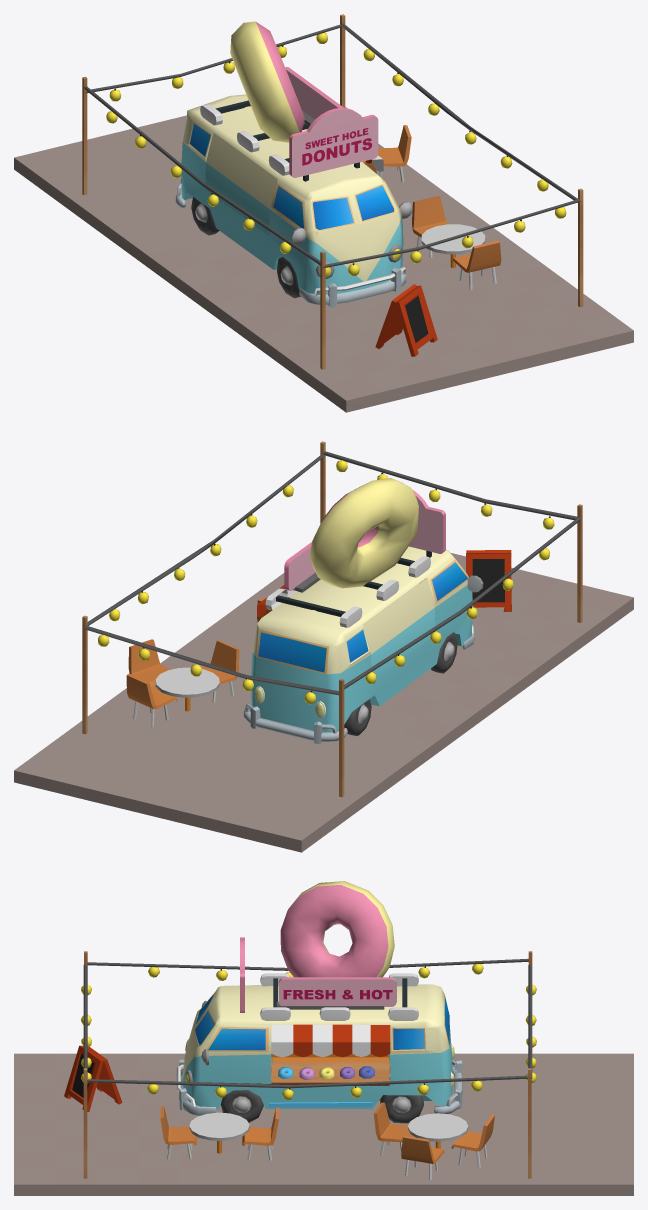
Rendered from FoodTruck.fbx.
3 renders of one model, top to bottom at view 1: azimuth 30°, elevation 25°; view 2: azimuth 150°, elevation 25°; view 3: azimuth 270°, elevation 25°, orthographic. The views are drawn at different scales.
Visible parts, largest first — view 1: FoodTruck; view 2: FoodTruck; view 3: FoodTruck.
Boxes of the visible parts, x1,y1,x2,y2 form: FoodTruck: [14, 14, 633, 412]; FoodTruck: [14, 441, 633, 852]; FoodTruck: [14, 881, 633, 1195].
Size of the model in its own units: 2 by 1.56 by 4.
